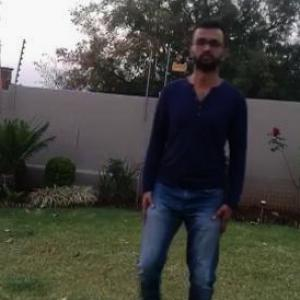follow: (144, 26, 242, 299)
